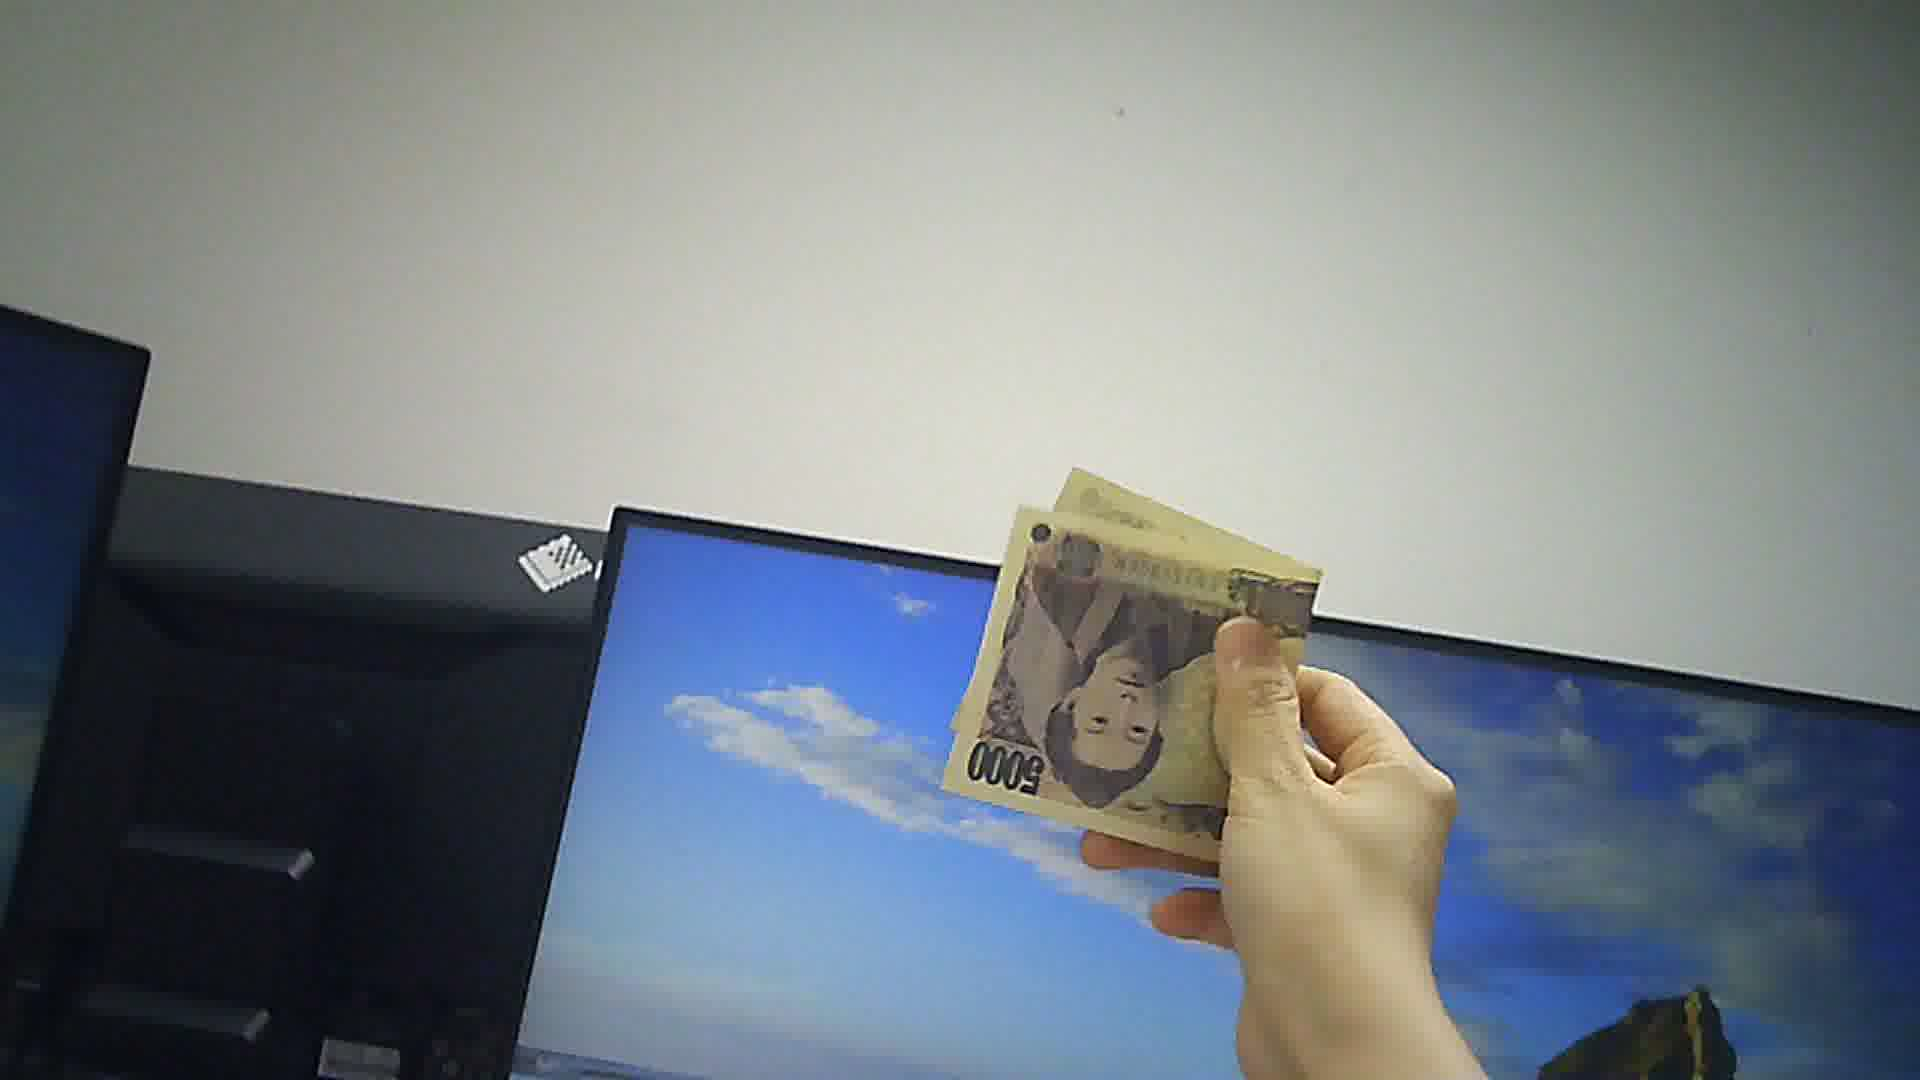5,000 Yen: (940, 477, 1356, 909)
